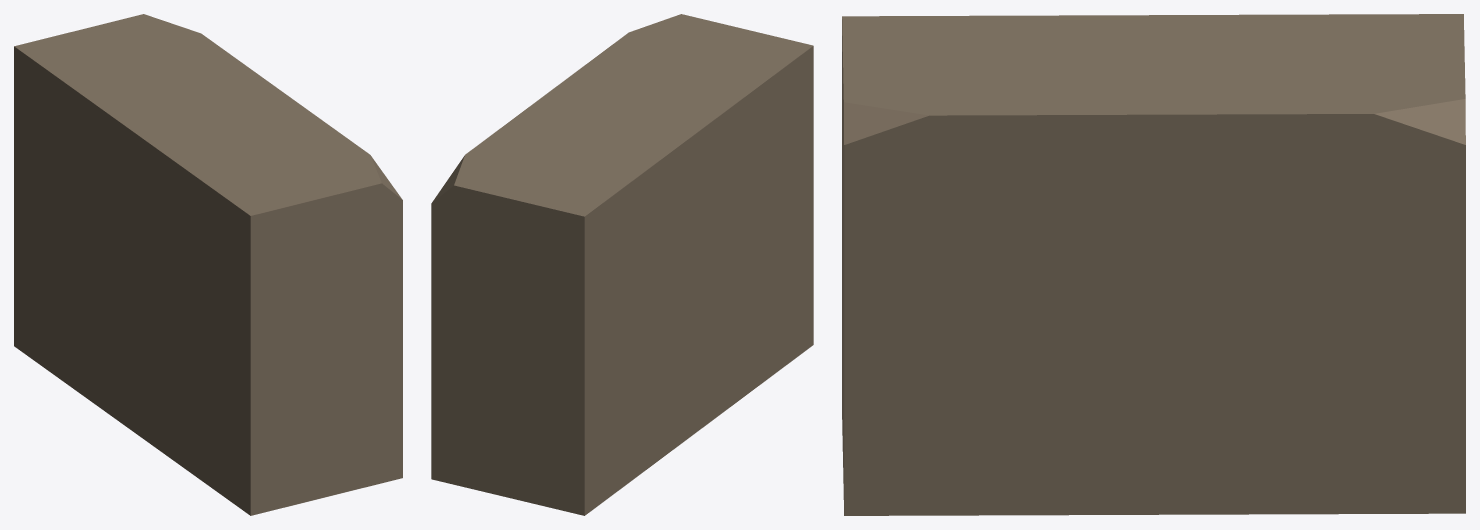
File: rock_simple.glb
3 renders of one model, left to right at view 1: azimuth 30°, elevation 25°; view 2: azimuth 150°, elevation 25°; view 3: azimuth 270°, elevation 25°, orthographic. The views are drawn at different scales.
Parts seen in each view (by area): view 1: Cube.009; view 2: Cube.009; view 3: Cube.009.
Boxes of the visible parts, x1=… form: Cube.009: x1=14, y1=14, x2=402, y2=515; Cube.009: x1=431, y1=14, x2=813, y2=515; Cube.009: x1=842, y1=14, x2=1465, y2=515.
Size of what is drawn, in the model's own units: 16.31 by 29.87 by 42.21.
